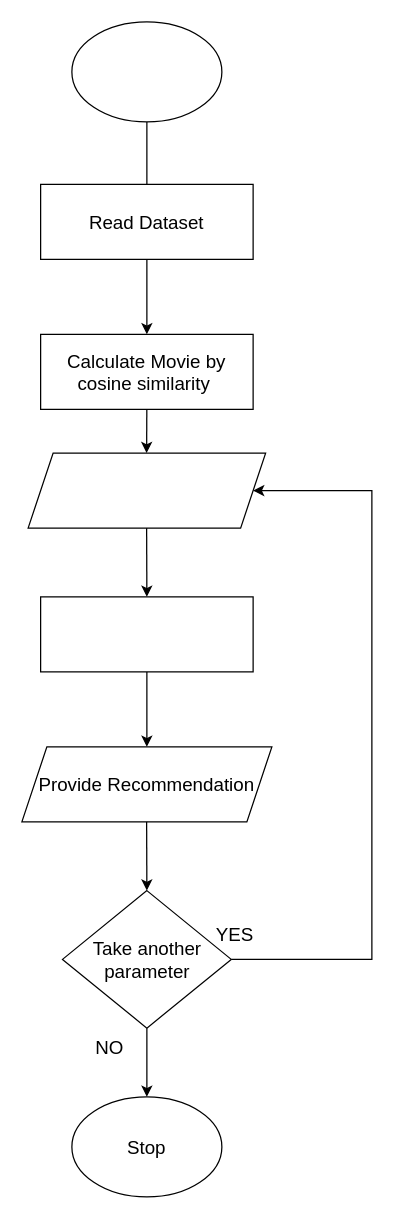
This 404x1219 diagram has some shape labels left out. The centre of each missing label's shape, as x and y in pixels:
Collaborative filtering: the point at 146,634
Input movie name: the point at 146,490
Start: the point at 146,71
